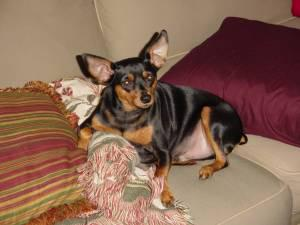dog-miniature_pinscher: (81, 27, 167, 108)
